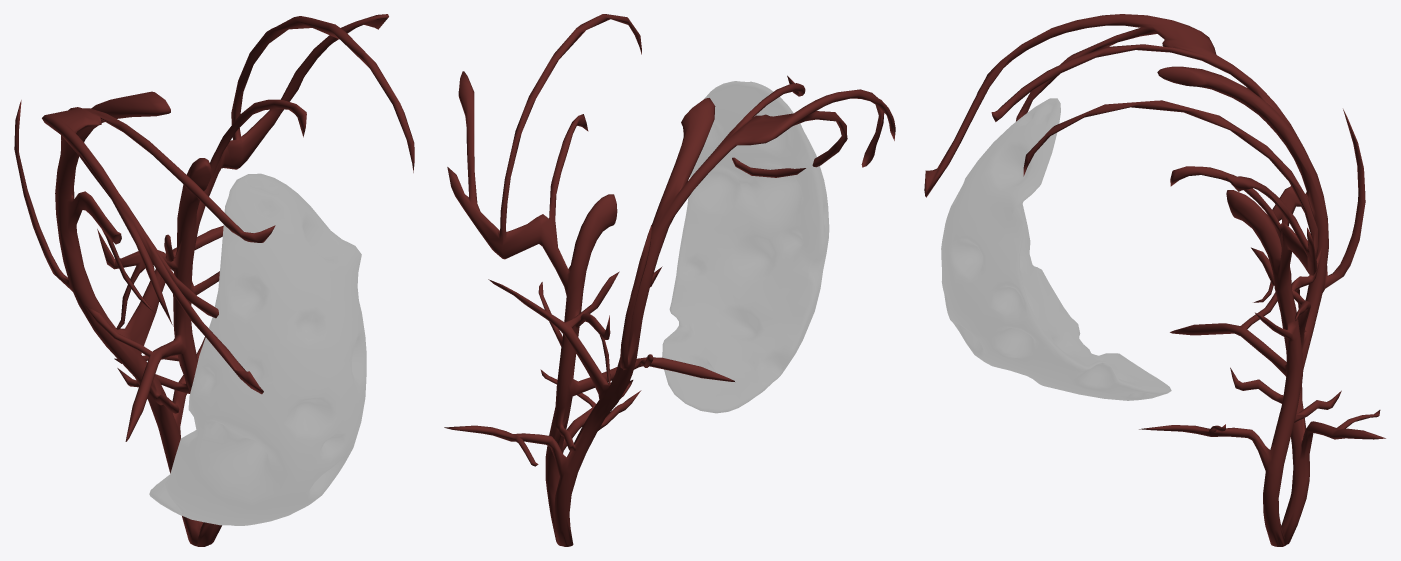
File: MoonTreeState03.gltf
The picture shows the model from 3 angles, left to right: view 1: azimuth 30°, elevation 25°; view 2: azimuth 150°, elevation 25°; view 3: azimuth 270°, elevation 25°; orthographic projection. The views are drawn at different scales.
Parts seen in each view (by area): view 1: Moon, Retopo_Cylinder.001; view 2: Moon, Retopo_Cylinder.001; view 3: Retopo_Cylinder.001, Moon.
Boxes of the visible parts, x1,y1,x2,y2 form: Moon: (149,173,366,525); Retopo_Cylinder.001: (14,14,414,546); Moon: (662,81,829,413); Retopo_Cylinder.001: (444,14,895,546); Retopo_Cylinder.001: (924,14,1385,546); Moon: (941,98,1171,400).
Size of the model in its own units: 9.26 by 12.93 by 11.57.
